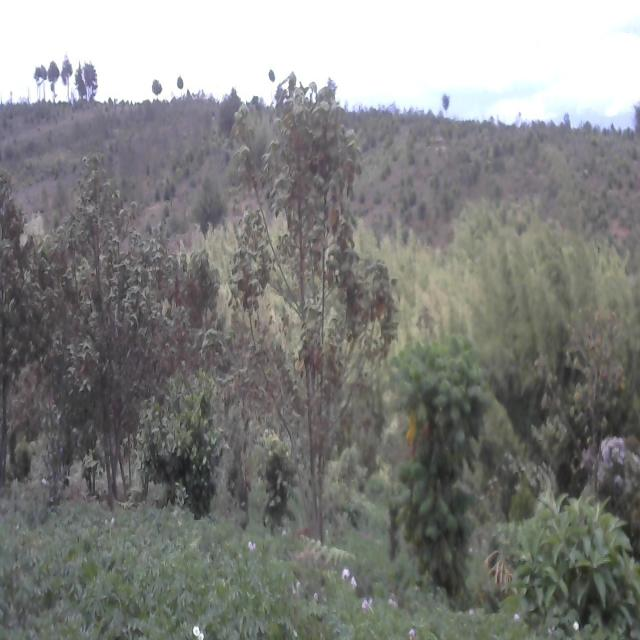Hagenia abyssinica: (391, 337, 494, 604)
cedrus: (58, 45, 77, 100), (79, 54, 96, 103), (33, 58, 49, 106), (50, 49, 59, 106)
other: (231, 85, 391, 519), (40, 138, 156, 488)
